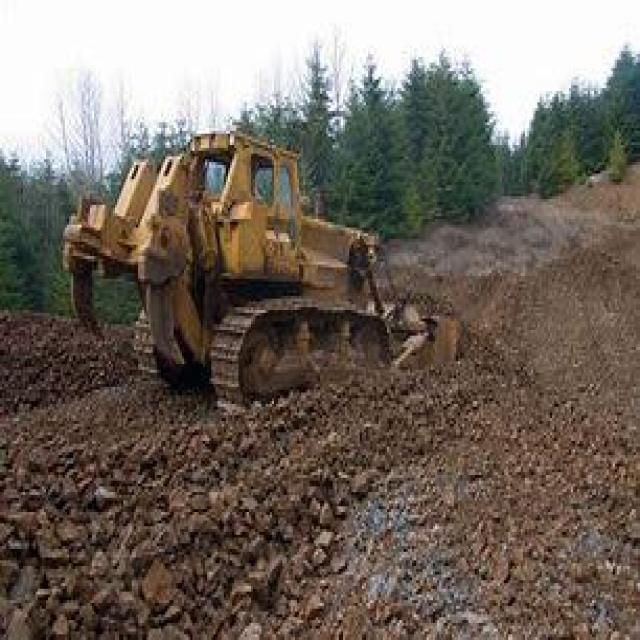buldozerpayloadergrader: (50, 105, 512, 430)
